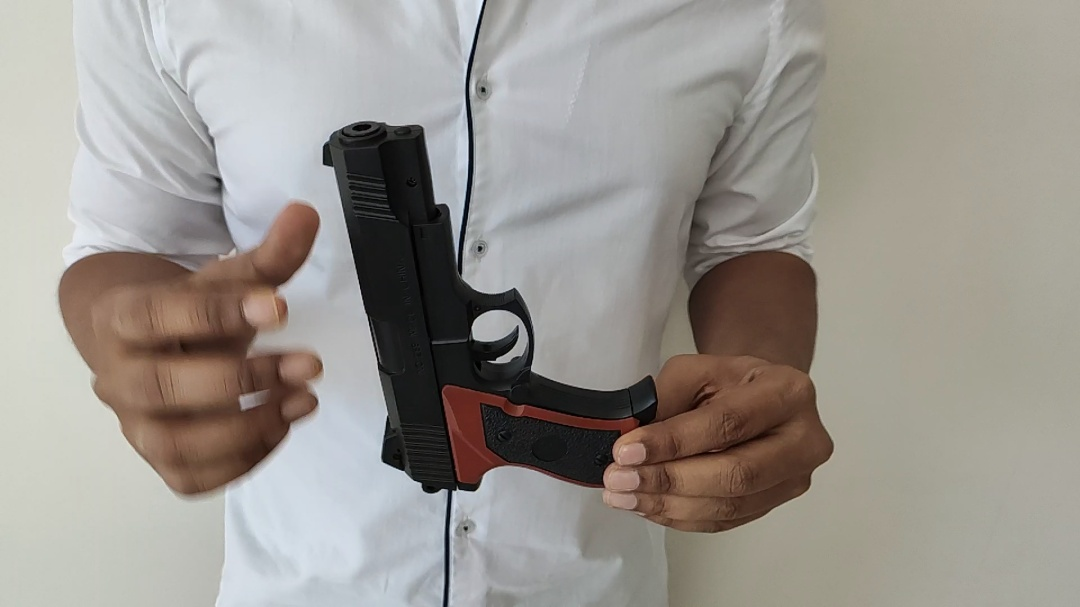gun: (321, 120, 659, 494)
